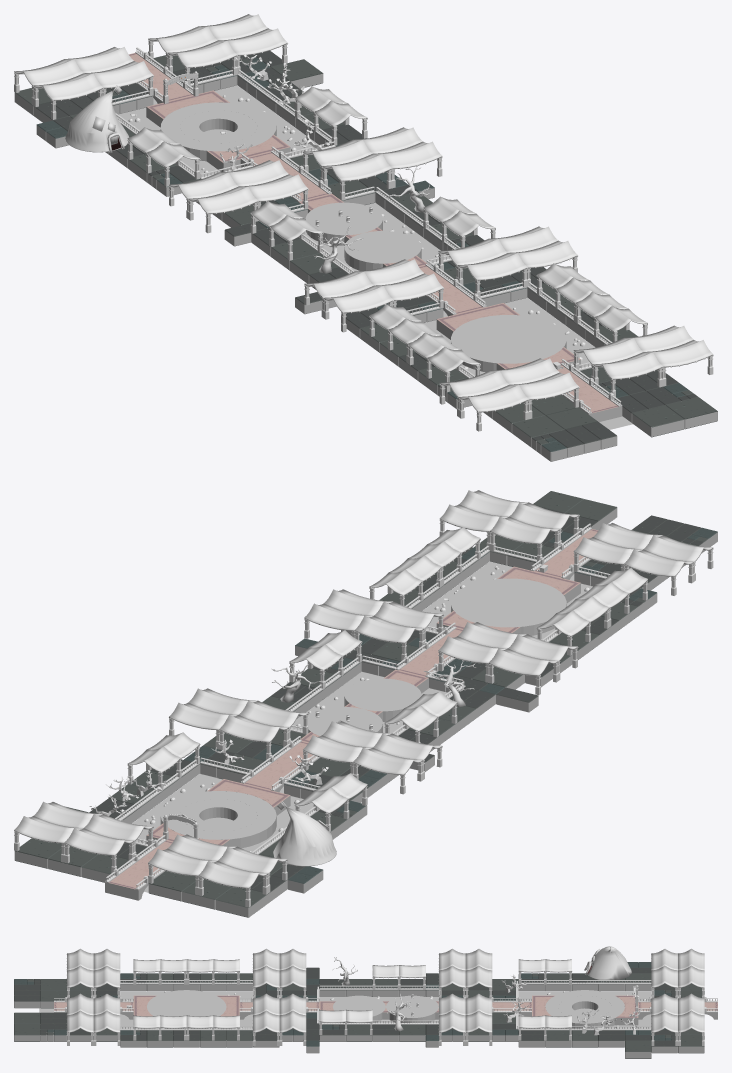
Rendered from lvl12_world1.fbx.
3 views of the same model, one above another, from view 1: azimuth 30°, elevation 25°; view 2: azimuth 150°, elevation 25°; view 3: azimuth 270°, elevation 25° (orthographic). The views are drawn at different scales.
Parts seen in each view (by area): view 1: tent green.003, Cube.2117, Plane.121, round, Cube.2089, Cylinder.022, tent.001, round_small.001, tree1.001, round_small.002, Cylinder.024, Cube.019 (+6 smaller); view 2: tent green.003, Cube.2117, round, Plane.121, Cube.2089, Cylinder.022, tent.001, tree1.001, round_small.001, Cylinder.024, round_small.002, Cube.050 (+5 smaller); view 3: Cube.2117, tent green.003, Cube.2089, Plane.121, round, Cylinder.022, tree1.001, tent.001, round_small.002, Cylinder.024, round_small.001, Cube.026 (+7 smaller).
Boxes of the visible parts, left/top/right/bottom form: tent green.003: left=14, top=14, right=713, bottom=431; Cube.2117: left=14, top=50, right=717, bottom=461; Plane.121: left=117, top=85, right=632, bottom=429; round: left=451, top=315, right=566, bottom=372; Cube.2089: left=112, top=69, right=612, bottom=378; Cylinder.022: left=160, top=102, right=276, bottom=161; tent.001: left=65, top=85, right=129, bottom=152; round_small.001: left=344, top=231, right=421, bottom=270; tree1.001: left=220, top=54, right=431, bottom=273; round_small.002: left=305, top=202, right=382, bottom=245; Cylinder.024: left=180, top=110, right=256, bottom=143; Cube.019: left=557, top=365, right=622, bottom=421; tent green.003: left=14, top=490, right=713, bottom=907; Cube.2117: left=14, top=491, right=717, bottom=917; round: left=451, top=578, right=566, bottom=635; Plane.121: left=132, top=561, right=592, bottom=892; Cube.2089: left=115, top=545, right=610, bottom=854; Cylinder.022: left=160, top=791, right=276, bottom=848; tent.001: left=273, top=801, right=336, bottom=866; tree1.001: left=89, top=655, right=475, bottom=816; round_small.001: left=344, top=678, right=421, bottom=721; Cylinder.024: left=180, top=799, right=256, bottom=831; round_small.002: left=307, top=707, right=382, bottom=735; Cube.050: left=105, top=840, right=172, bottom=900; Cube.2117: left=14, top=962, right=704, bottom=1058; tent green.003: left=66, top=948, right=704, bottom=1045; Cube.2089: left=117, top=980, right=654, bottom=1030; Plane.121: left=39, top=991, right=651, bottom=1028; round: left=147, top=990, right=226, bottom=1028; Cylinder.022: left=545, top=990, right=624, bottom=1028; tree1.001: left=333, top=957, right=642, bottom=1035; tent.001: left=584, top=946, right=631, bottom=979; round_small.002: left=386, top=995, right=438, bottom=1022; Cylinder.024: left=558, top=995, right=611, bottom=1017; round_small.001: left=333, top=995, right=385, bottom=1022; Cube.026: left=492, top=1002, right=531, bottom=1016.
Bounding box in the file's own units: 16000 × 3747 × 53000.
